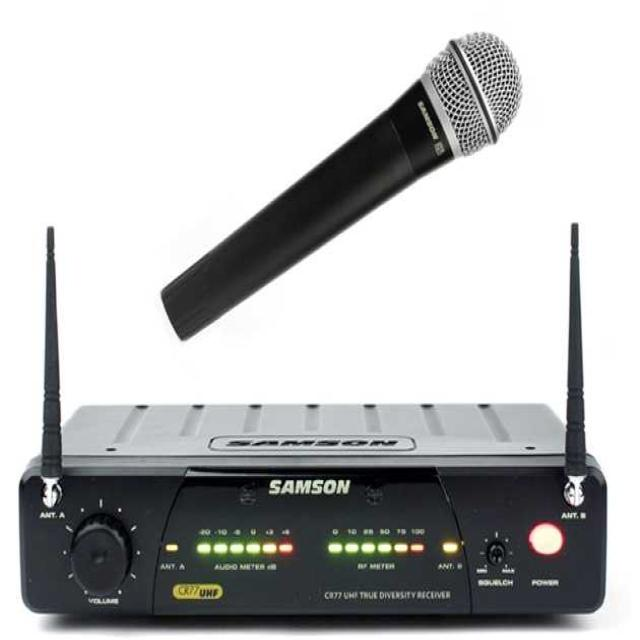microphone: (166, 33, 512, 340)
